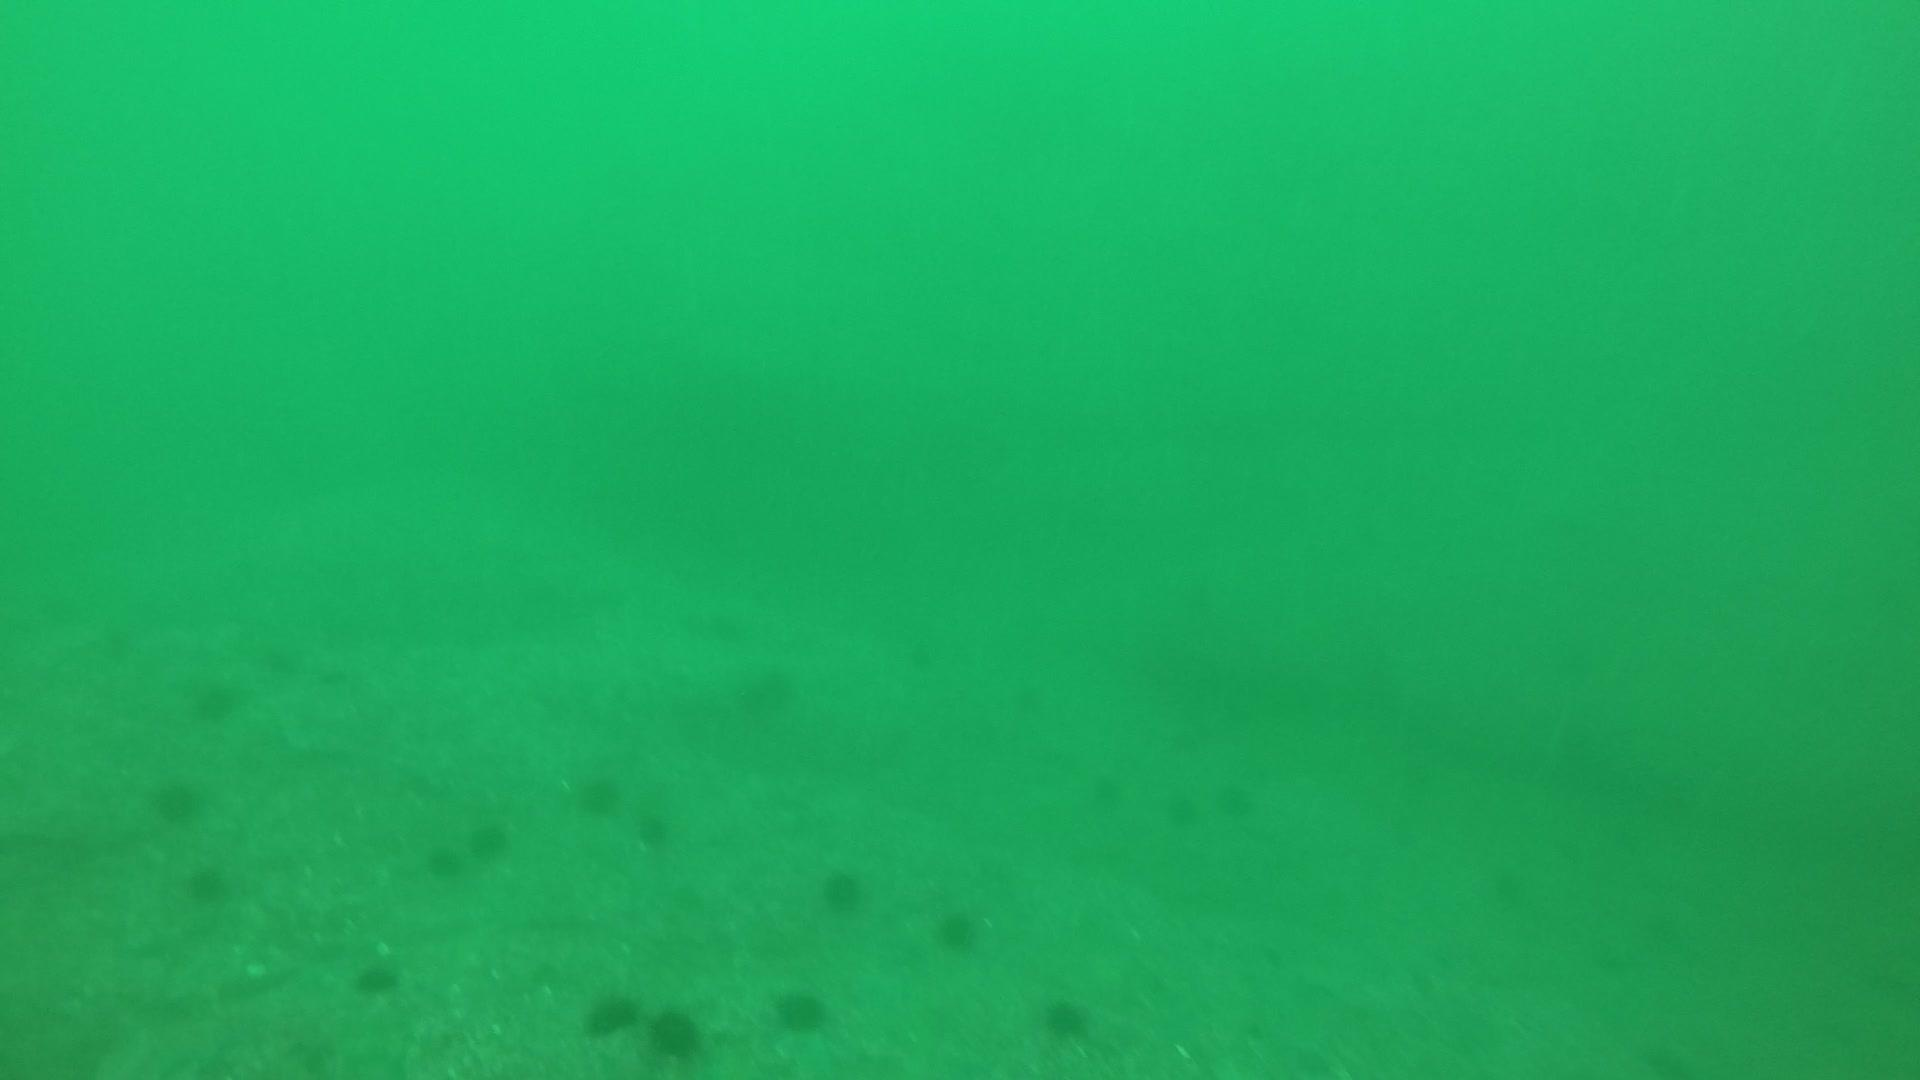echinus: (731, 659, 800, 720), (692, 596, 762, 655), (642, 1002, 707, 1064), (185, 669, 244, 725), (771, 982, 832, 1036), (148, 771, 207, 825), (582, 986, 641, 1040), (1036, 992, 1095, 1044), (570, 765, 625, 819), (816, 861, 870, 915), (932, 902, 984, 953), (182, 858, 233, 909), (464, 814, 513, 866), (349, 953, 404, 1001), (425, 835, 471, 882), (1215, 775, 1261, 822), (633, 804, 675, 851), (1162, 786, 1203, 832)
